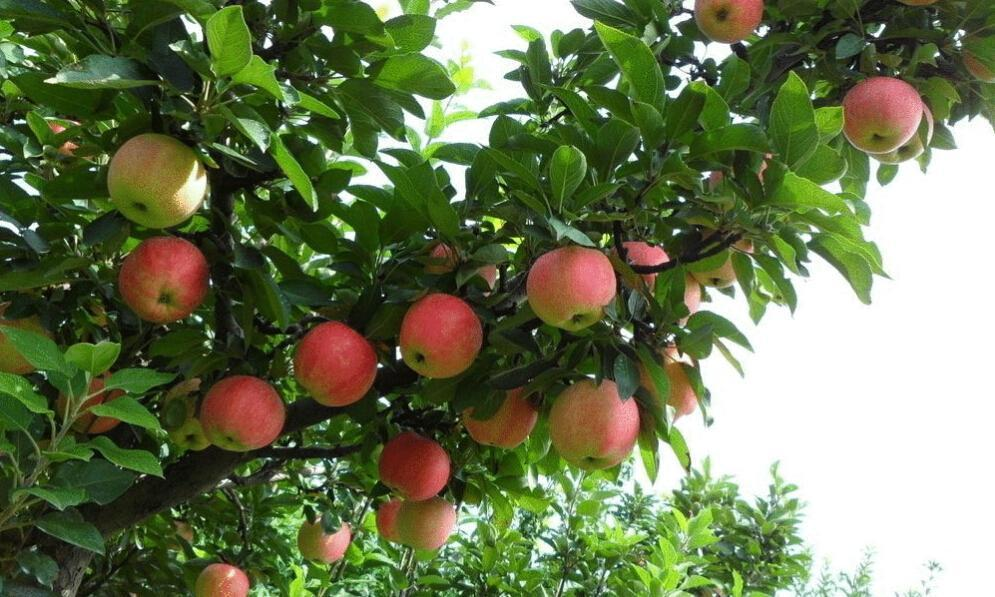apple: (104, 129, 207, 229), (117, 236, 211, 325), (548, 379, 638, 465), (525, 244, 615, 330), (399, 292, 483, 383), (293, 320, 378, 407), (840, 75, 925, 158), (200, 373, 287, 450), (635, 345, 704, 417), (376, 491, 457, 552), (463, 381, 535, 448), (378, 433, 450, 500), (695, 1, 764, 44), (298, 515, 351, 564), (194, 563, 250, 597)
